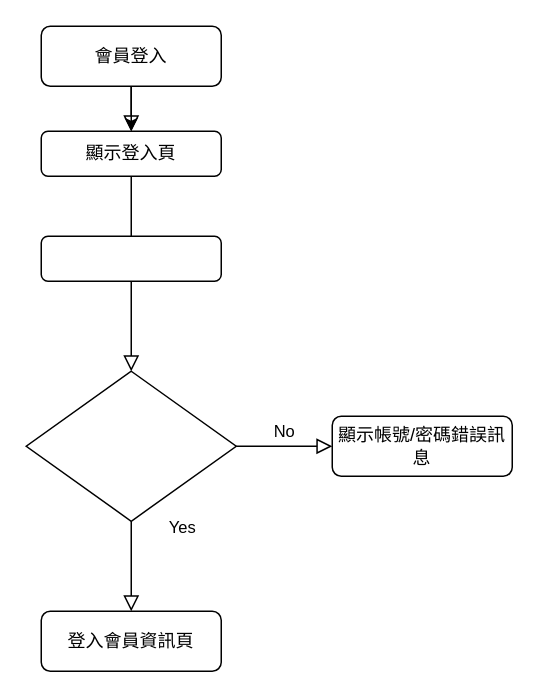
Some shapes in this 539 by 698 pixel diagram are drawn without their labels. The centre of each missing label's shape, as x and y in pixels:
"使用者輸入帳號密碼" goes at (x=130, y=258).
"帳號/密碼是否輸入正確" goes at (x=130, y=445).
